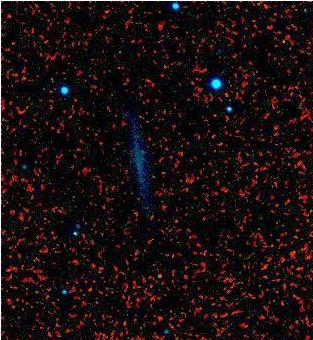star: (144, 259, 174, 289)
